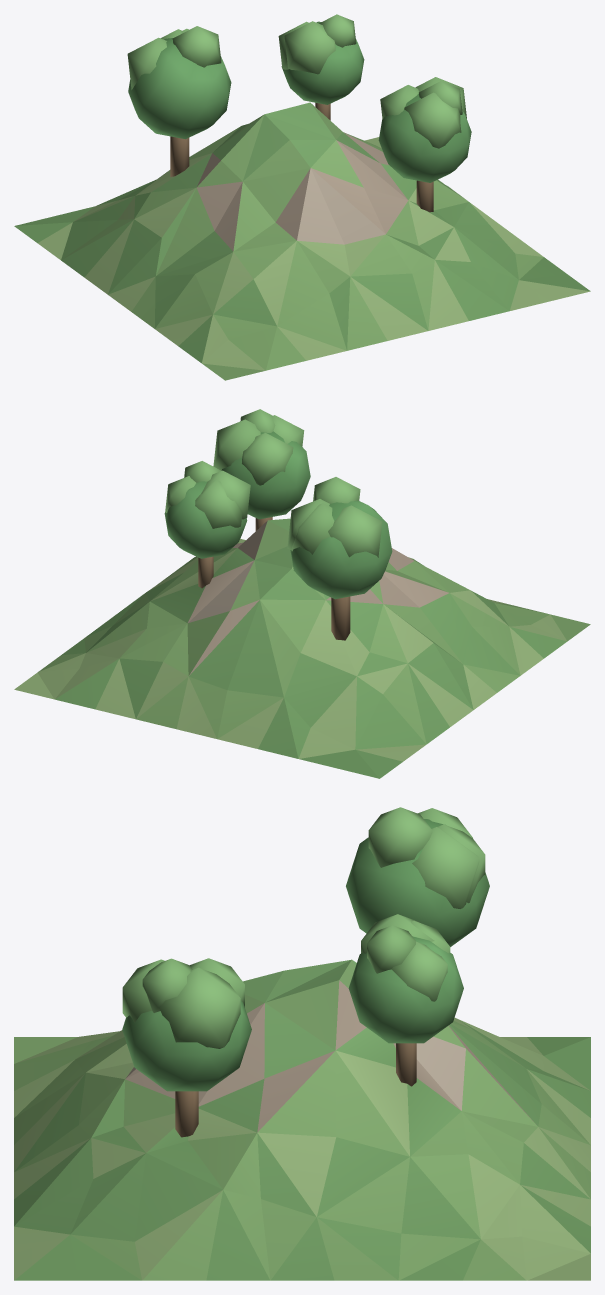
The model's file is terrain-mountain-0.glb.
3 renders of one model, top to bottom at view 1: azimuth 30°, elevation 25°; view 2: azimuth 150°, elevation 25°; view 3: azimuth 270°, elevation 25°, orthographic. The views are drawn at different scales.
Visible parts, largest first — view 1: terrain-mountain-0; view 2: terrain-mountain-0; view 3: terrain-mountain-0.
Part boxes in pixels (bbox=[...]): terrain-mountain-0: bbox=[14, 14, 590, 380]; terrain-mountain-0: bbox=[14, 409, 590, 778]; terrain-mountain-0: bbox=[14, 807, 590, 1280].
Size of the model in its own units: 1 by 0.584 by 1.
